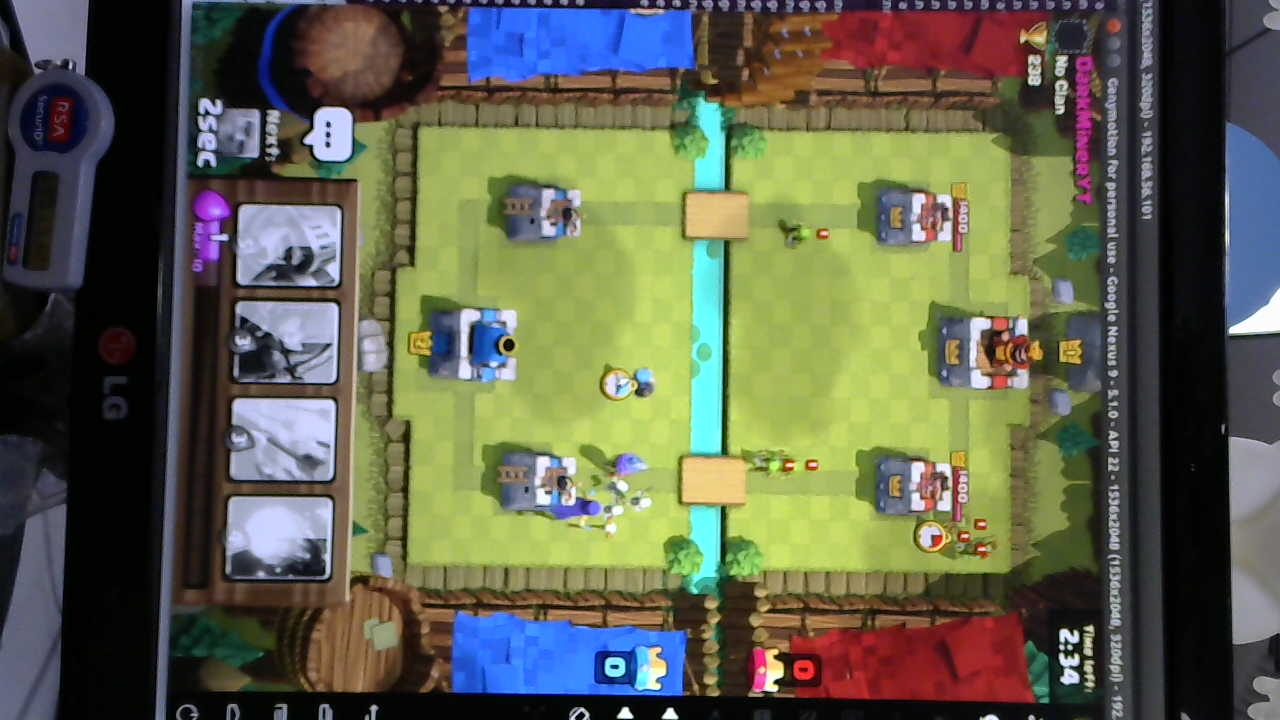arena: (492, 452, 576, 508), (506, 186, 586, 241)
bomb: (618, 365, 659, 400)
earena: (876, 452, 965, 521), (882, 182, 964, 247)
eking: (940, 314, 1037, 394)
goblin: (780, 216, 830, 250)
goblins: (739, 448, 821, 481)
king: (426, 302, 517, 386)
musketeer: (599, 446, 650, 484)
skeleton: (600, 479, 653, 523)
speargoblins: (937, 514, 1002, 562)
witch: (547, 494, 608, 531)
